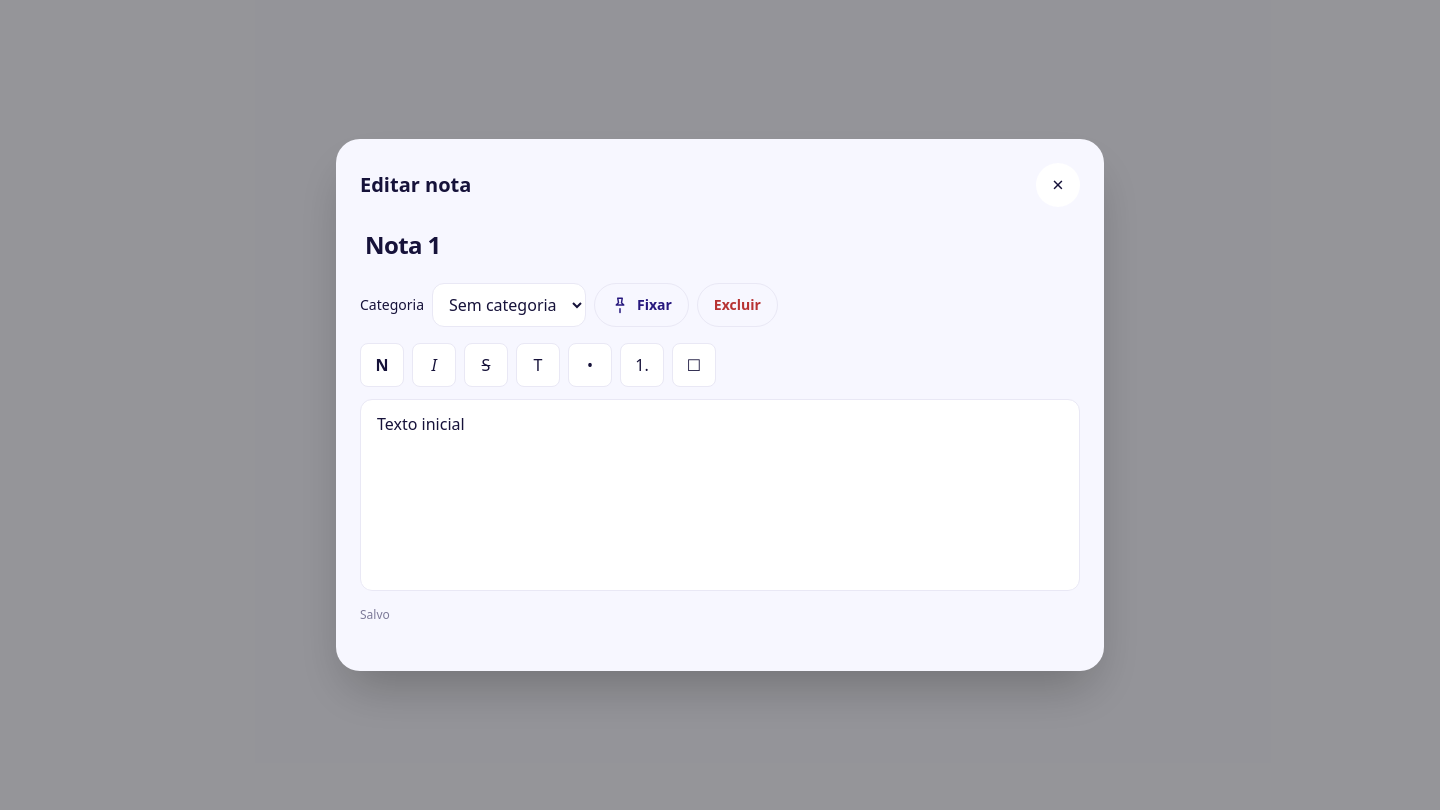
Test: NotaPage: saída e exclusão › sairComTituloVazioGravaSemTituloComConteudoNovo
The image size is (1440, 810).
Expected: the field labelled "Texto inicial" is shown, [360, 399, 1080, 591]
Clear the field named "Título da nota" at (720,245), box [360, 223, 1080, 267]
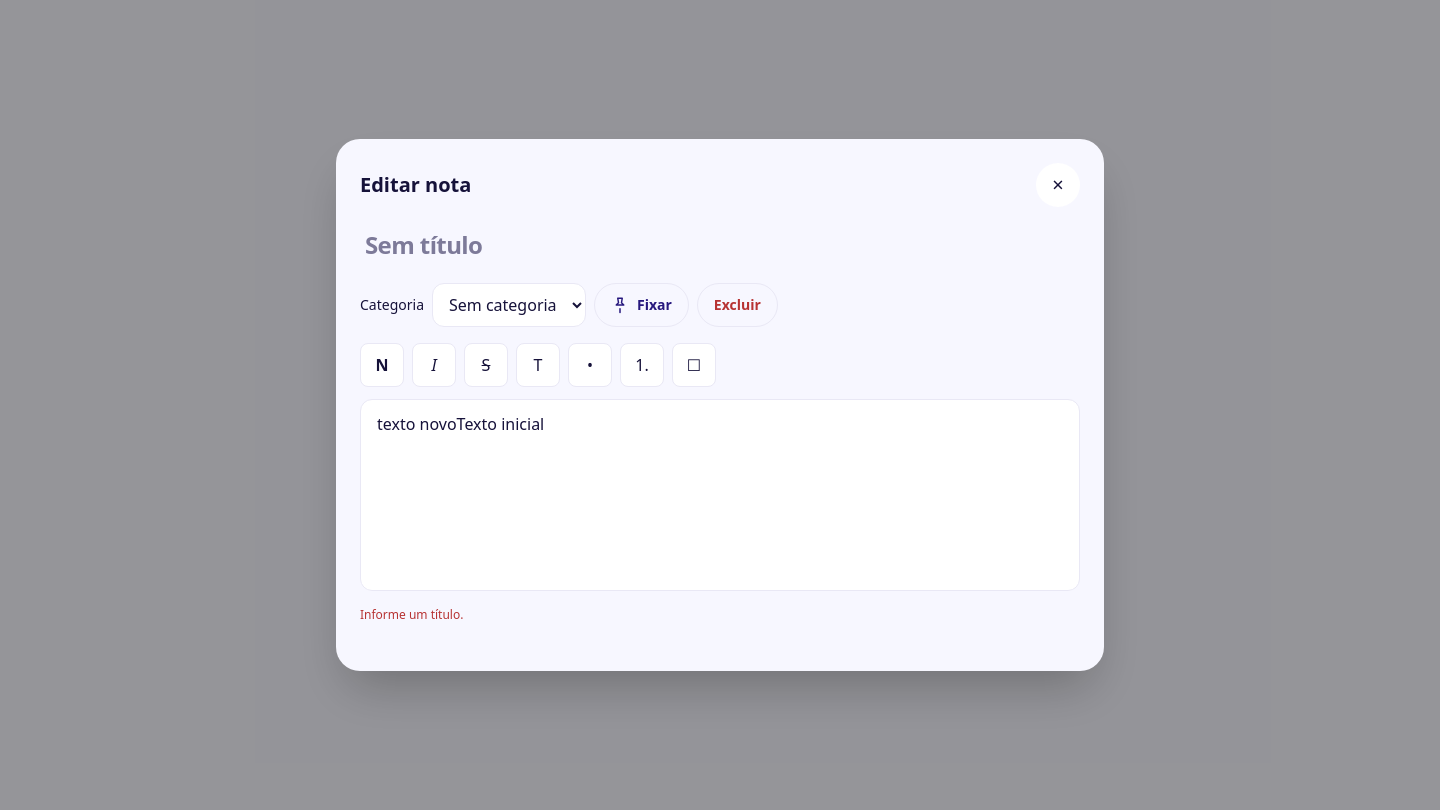
Now the text "Informe um título." is shown, box [360, 606, 464, 623]
